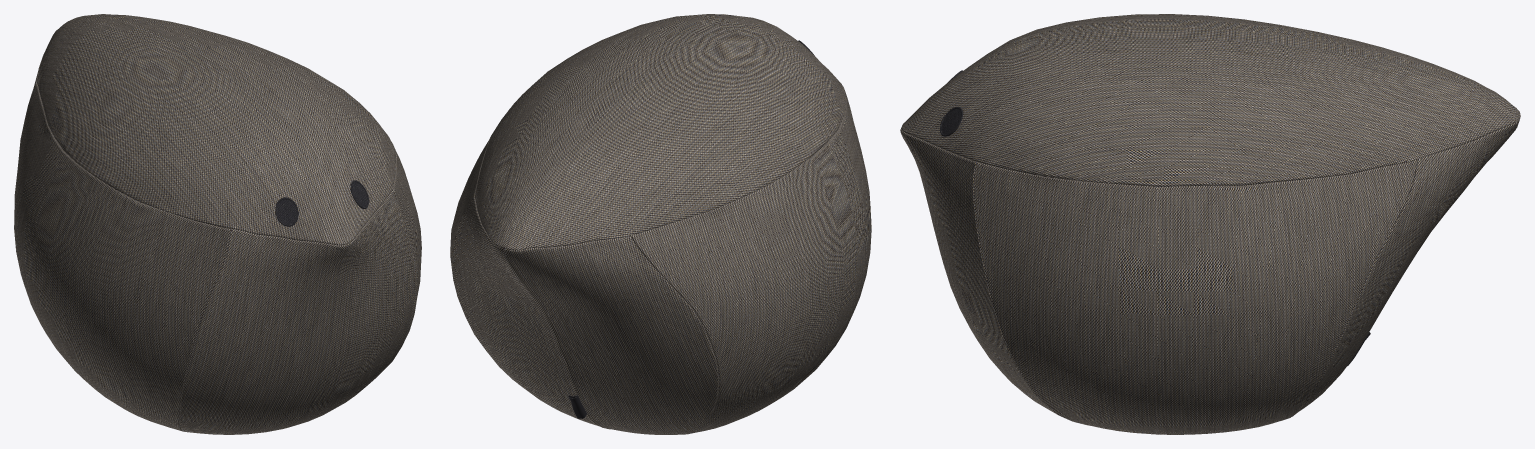
The model's file is Hulsta_Birdy_Pouf_mat(1).fbx.
3 views of the same model, side by side, from view 1: azimuth 30°, elevation 25°; view 2: azimuth 150°, elevation 25°; view 3: azimuth 270°, elevation 25° (orthographic). The views are drawn at different scales.
Visible parts, largest first — view 1: Hulsta_Birdy_Pouf_mat1; view 2: Hulsta_Birdy_Pouf_mat1; view 3: Hulsta_Birdy_Pouf_mat1.
Boxes of the visible parts, x1,y1,x2,y2 form: Hulsta_Birdy_Pouf_mat1: (14,14,421,434); Hulsta_Birdy_Pouf_mat1: (450,14,871,434); Hulsta_Birdy_Pouf_mat1: (900,14,1520,434).
Bounding box in the file's own units: 50.8 × 74.33 × 48.
